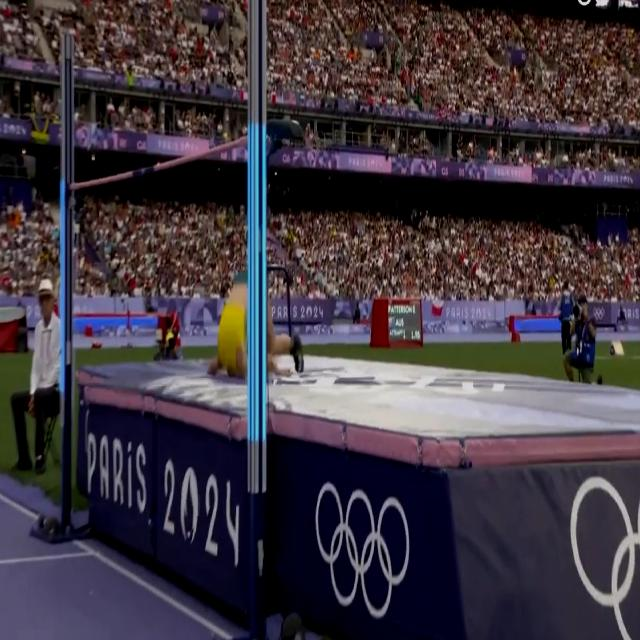land: (212, 279, 306, 382)
